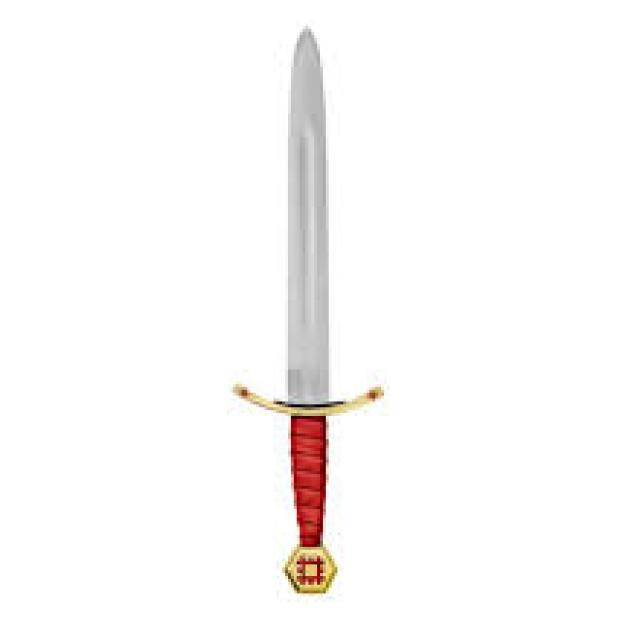Gun: (231, 1, 377, 612)
